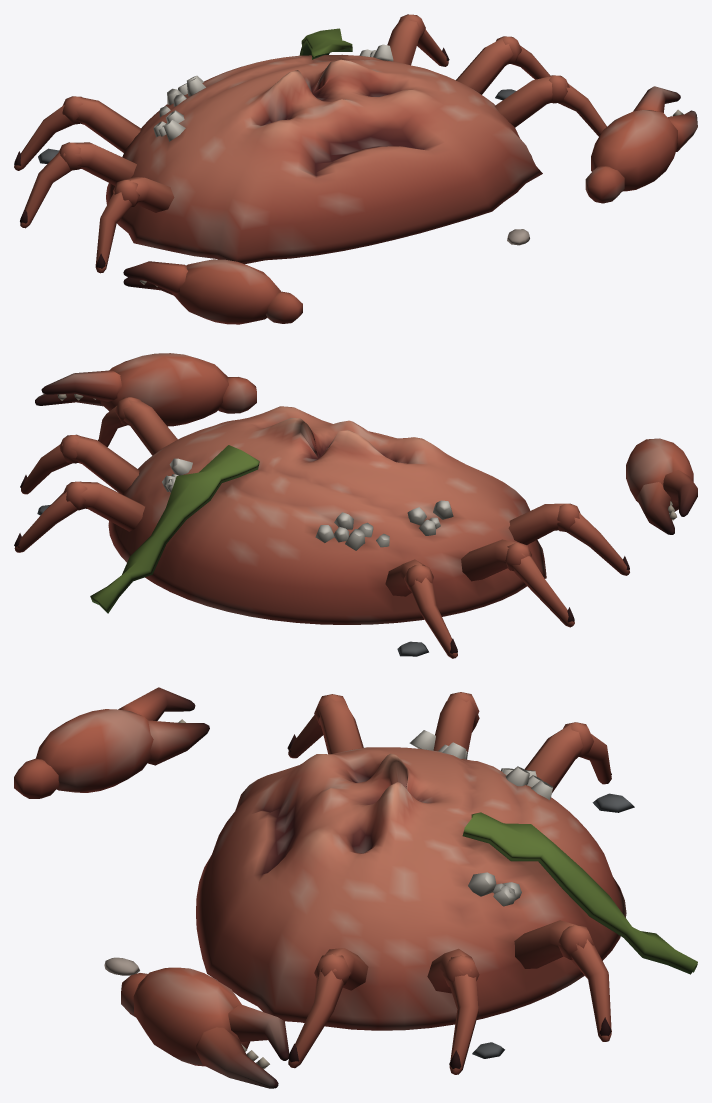
Rendered from dg-tidepool-crabHusk.glb.
3 views of the same model, one above another, from view 1: azimuth 30°, elevation 25°; view 2: azimuth 150°, elevation 25°; view 3: azimuth 270°, elevation 25° (orthographic). The views are drawn at different scales.
Visible parts, largest first — view 1: body; view 2: body; view 3: body.
Boxes of the visible parts, x1,y1,x2,y2 form: body: (14,14,697,324); body: (14,353,697,658); body: (14,687,697,1088).
Bounding box in the file's own units: 2.58 × 0.4883 × 2.03.
